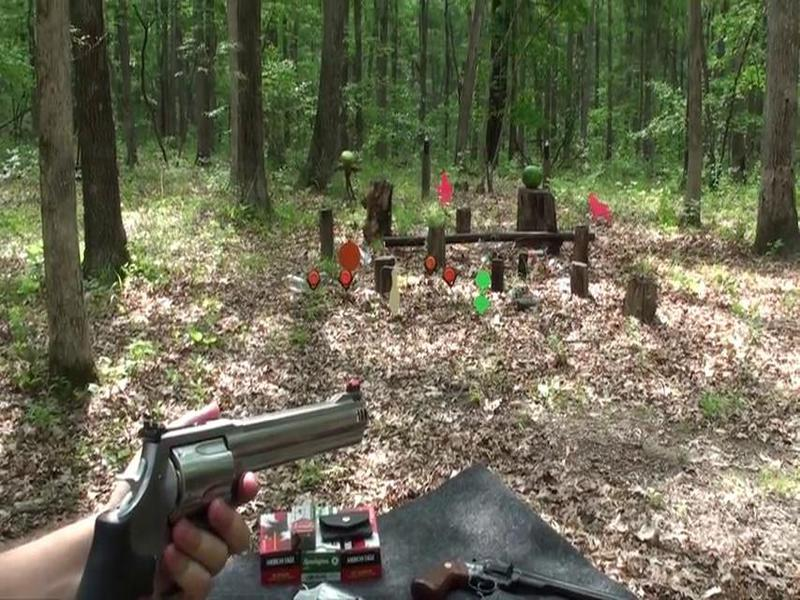Revolver: (80, 381, 370, 600)
